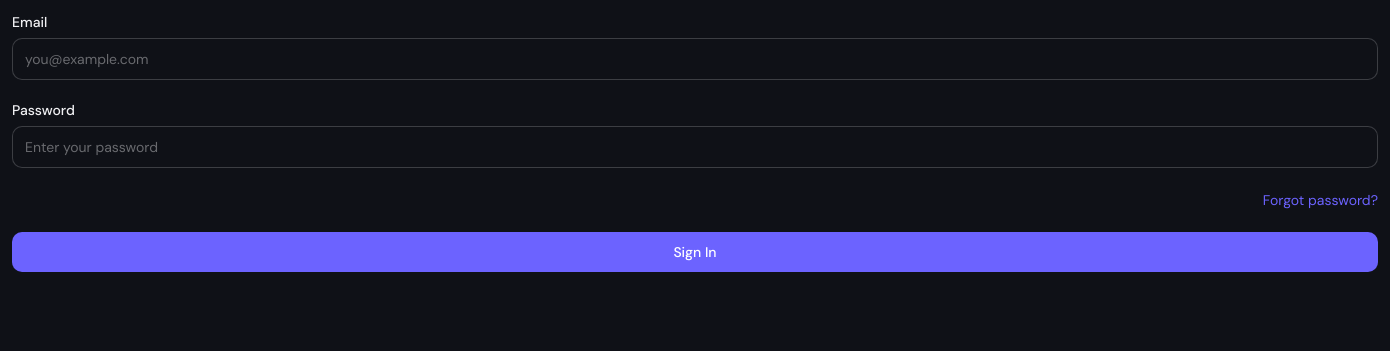
LoginForm › 10.4 invalid credentials error displays user-friendly message
The width and height of the screenshot is (1390, 351).
In the field labelled "Email": (695,59) [12,38,1378,80], type "test@example.com"
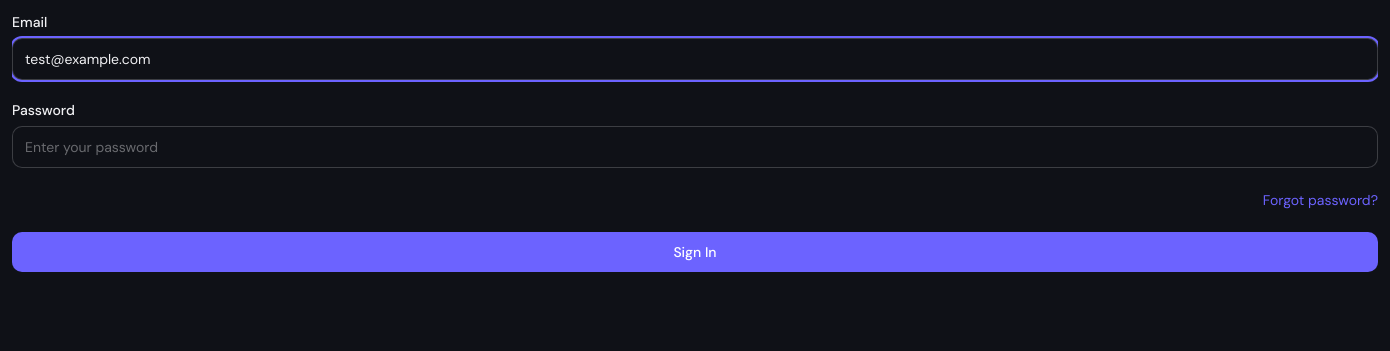
In the password field labelled "Password": (695,147) [12,126,1378,168], type "WrongPass!"
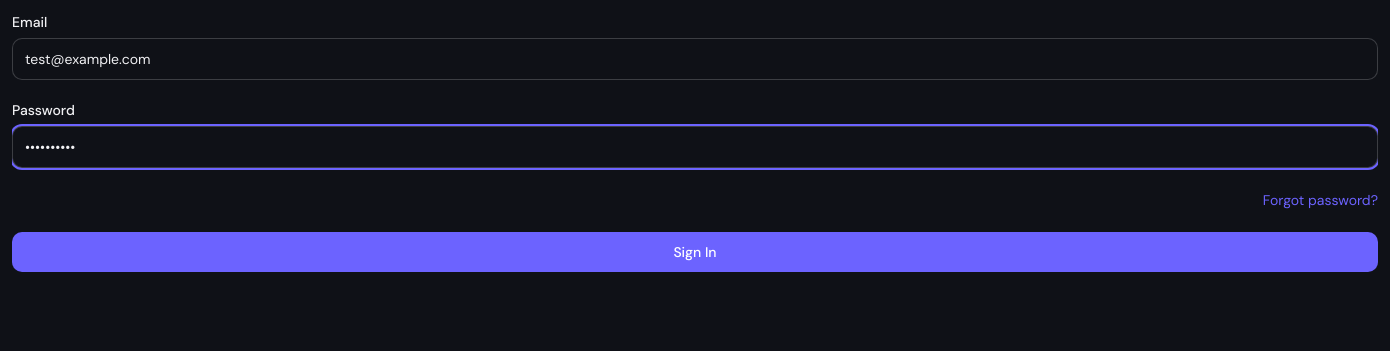
Click the button "Sign In": (695,252) [12,232,1378,272]
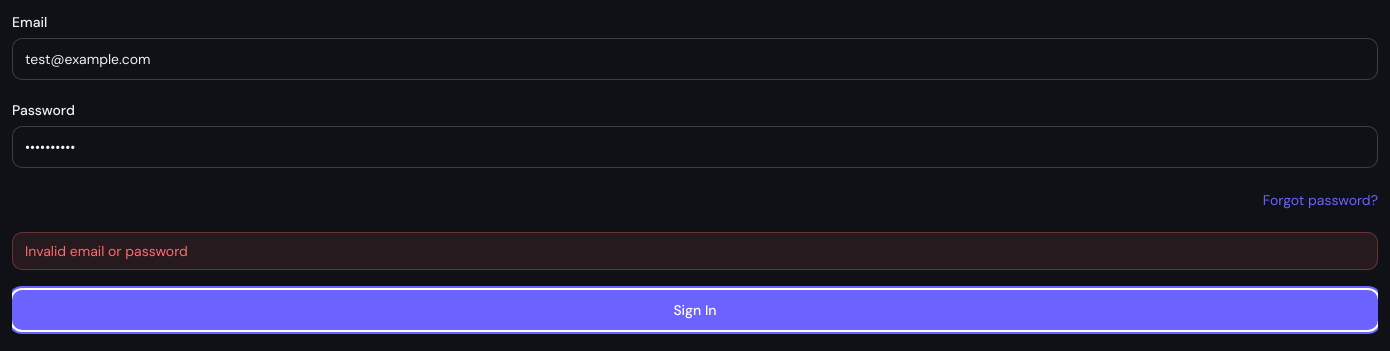
Result: the text "Invalid email or password" is shown at [12,232,1378,270]
